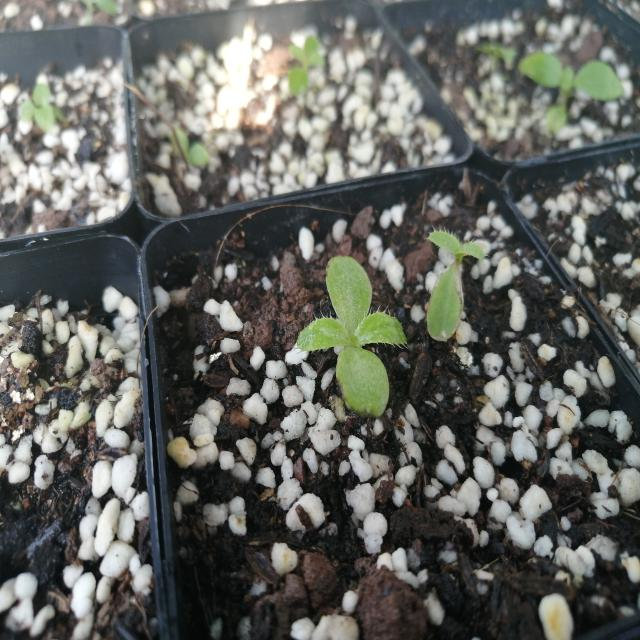field_thistle: (282, 217, 412, 445), (418, 219, 488, 347)
